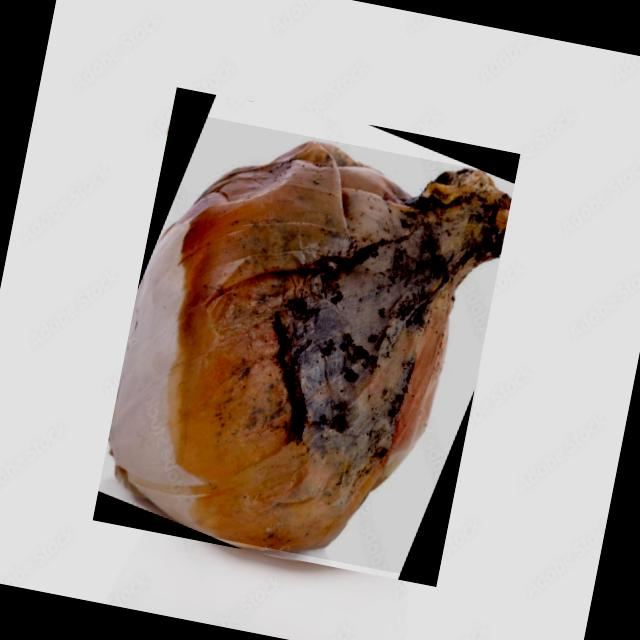rotten: (109, 142, 512, 550)
